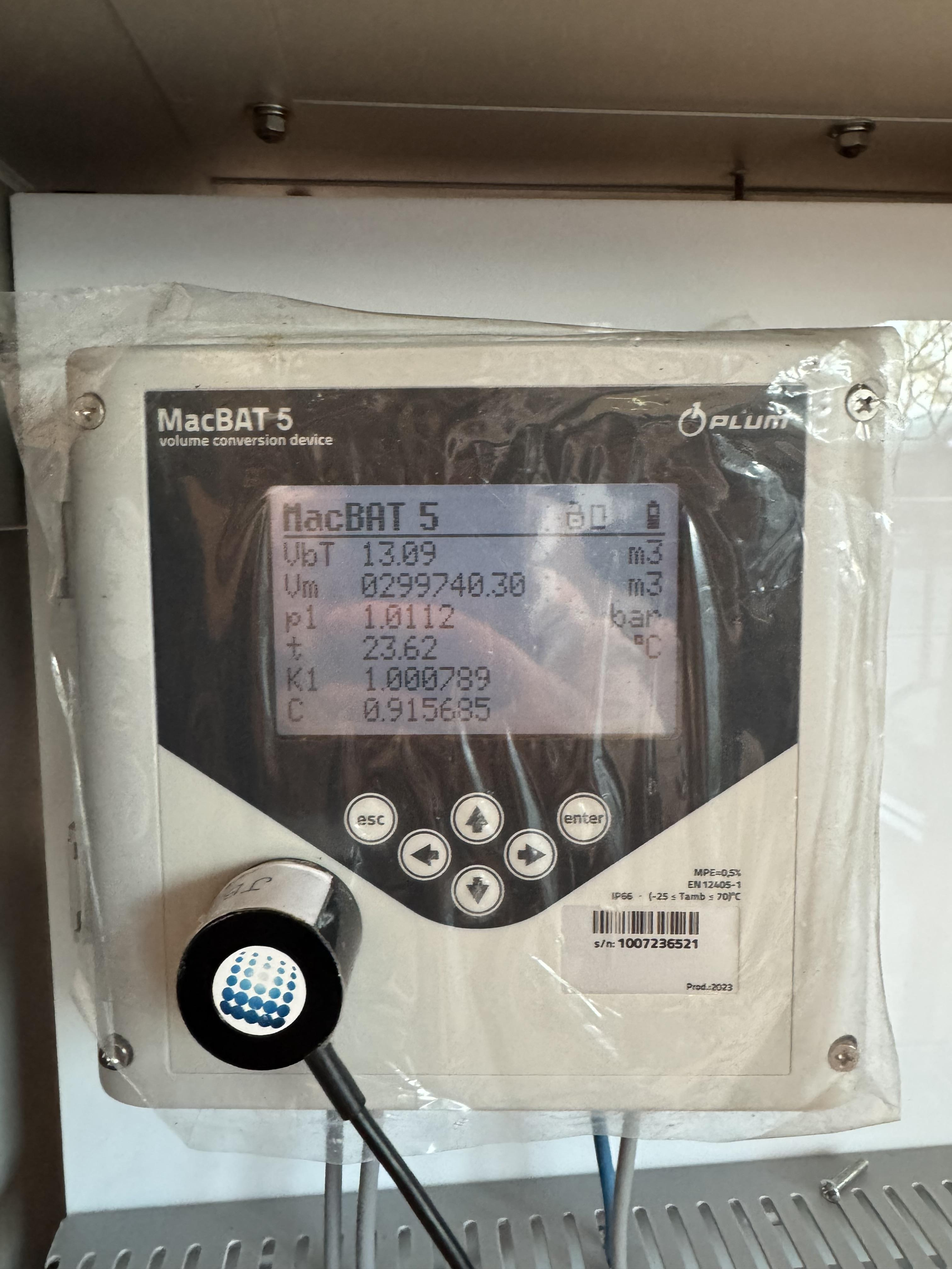digital_screen: (269, 484, 680, 739)
